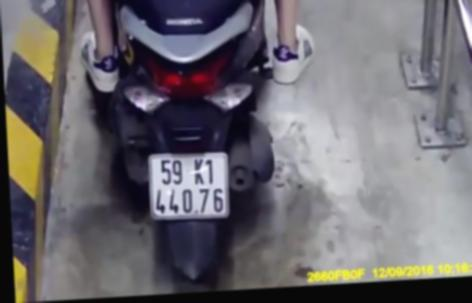License_Plate: (141, 141, 235, 227)
